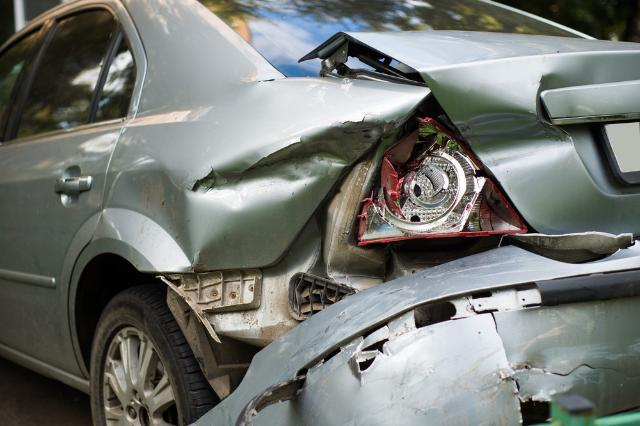crack: (515, 362, 627, 376), (357, 339, 392, 372), (489, 313, 499, 335)
dent: (107, 111, 388, 269), (424, 74, 572, 167)
dislocated part: (144, 139, 640, 426)
lamp broken: (350, 94, 530, 246)
scratch: (287, 260, 512, 371), (364, 347, 513, 413)
